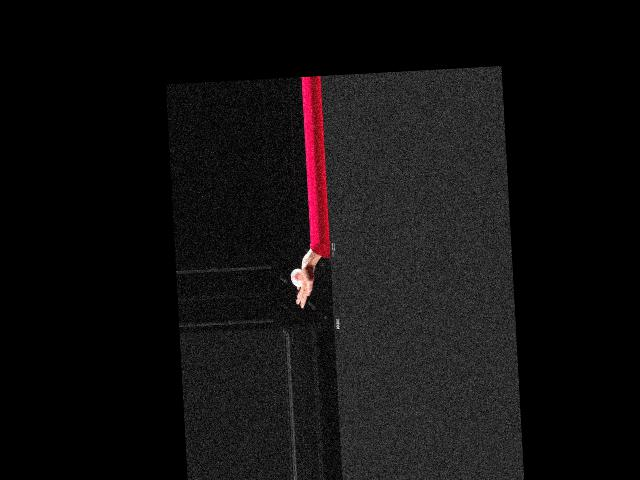egg: (290, 267, 303, 286)
